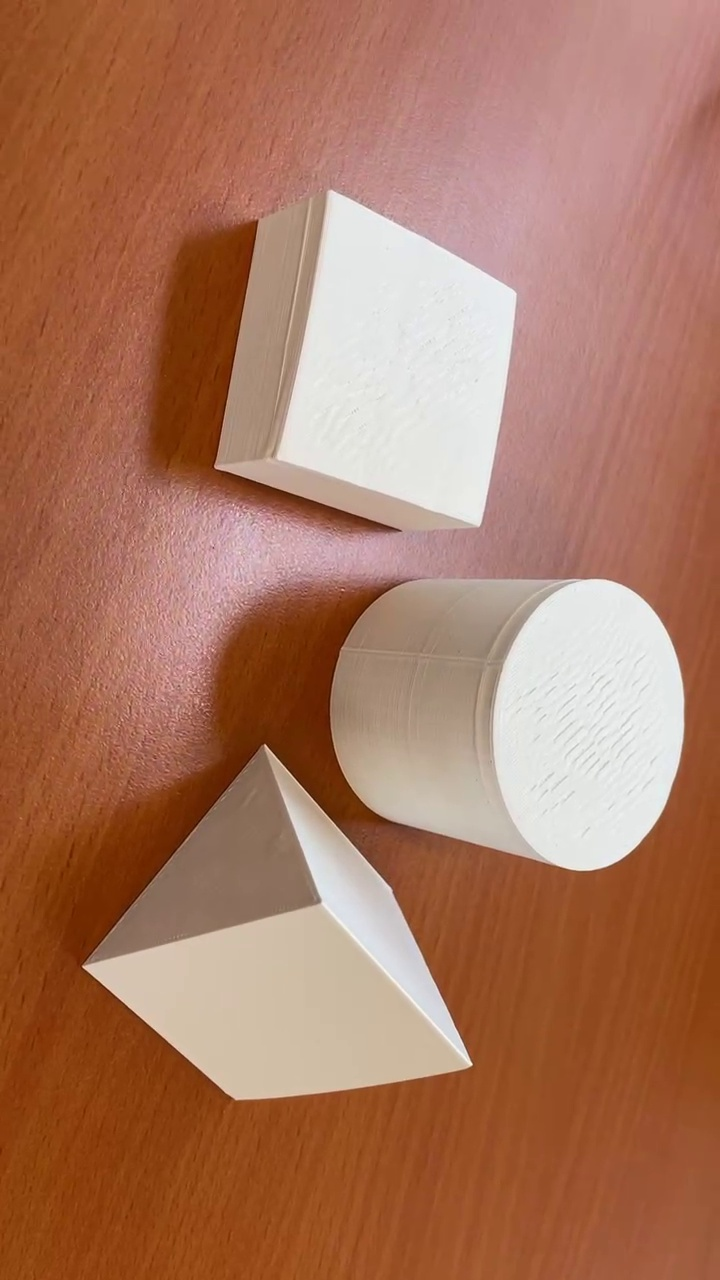Cube_short: (209, 186, 522, 534)
Cylinder: (330, 578, 678, 871)
Triangle: (81, 738, 474, 1109)
